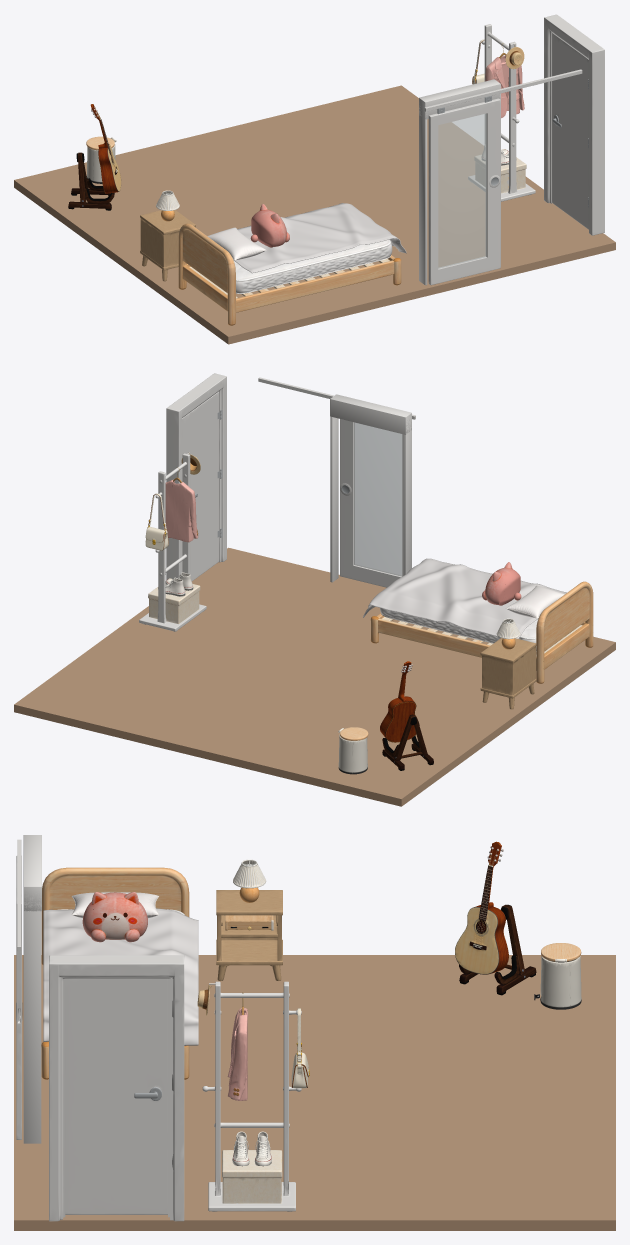
3 views of the same model, one above another, from view 1: azimuth 30°, elevation 25°; view 2: azimuth 150°, elevation 25°; view 3: azimuth 270°, elevation 25° (orthographic). The views are drawn at different scales.
Parts seen in each view (by area): view 1: bedroom.floor, bathroom.frostedGlass, b01-bed-frame.mesh.0, d04-entry-leaf.mesh.0, d02-closet-leaf.mesh.0, d03-entry-frame.mesh.0, b03-duvet.mesh.0, b02-mattress.mesh.0, c01-coat-rack.mesh.0, n01-carcass.mesh.0, bathroom.reveal.left, bathroom.reveal.head (+7 smaller); view 2: bedroom.floor, bathroom.frostedGlass, b03-duvet.mesh.0, b01-bed-frame.mesh.0, d04-entry-leaf.mesh.0, d03-entry-frame.mesh.0, c01-coat-rack.mesh.0, d02-closet-leaf.mesh.0, n01-carcass.mesh.0, bathroom.reveal.head, c02-pink-coat.mesh.0, bathroom.reveal.right (+8 smaller); view 3: bedroom.floor, d04-entry-leaf.mesh.0, d03-entry-frame.mesh.0, c01-coat-rack.mesh.0, b03-duvet.mesh.0, b01-bed-frame.mesh.0, bathroom.reveal.right, n01-carcass.mesh.0, g01-guitar.mesh.0, b05-peach-cat.mesh.0, t01-bin-body.mesh.0, c02-pink-coat.mesh.0 (+12 smaller).
Boxes of the visible parts, x1=… form: bedroom.floor: x1=14, y1=85, x2=615, y2=344; bathroom.frostedGlass: x1=438, y1=113, x2=486, y2=268; b01-bed-frame.mesh.0: x1=178, y1=223, x2=401, y2=325; d04-entry-leaf.mesh.0: x1=552, y1=33, x2=588, y2=229; d02-closet-leaf.mesh.0: x1=428, y1=96, x2=500, y2=285; d03-entry-frame.mesh.0: x1=544, y1=14, x2=604, y2=235; b03-duvet.mesh.0: x1=233, y1=203, x2=406, y2=273; b02-mattress.mesh.0: x1=234, y1=239, x2=392, y2=293; c01-coat-rack.mesh.0: x1=468, y1=24, x2=535, y2=201; n01-carcass.mesh.0: x1=140, y1=210, x2=195, y2=281; bathroom.reveal.left: x1=419, y1=100, x2=427, y2=285; bathroom.reveal.head: x1=419, y1=79, x2=500, y2=119; bedroom.floor: x1=14, y1=547, x2=615, y2=806; bathroom.frostedGlass: x1=354, y1=422, x2=402, y2=576; b03-duvet.mesh.0: x1=363, y1=558, x2=566, y2=638; b01-bed-frame.mesh.0: x1=370, y1=581, x2=593, y2=683; d04-entry-leaf.mesh.0: x1=182, y1=391, x2=218, y2=581; d03-entry-frame.mesh.0: x1=166, y1=373, x2=226, y2=579; c01-coat-rack.mesh.0: x1=139, y1=453, x2=206, y2=631; d02-closet-leaf.mesh.0: x1=340, y1=419, x2=403, y2=587; n01-carcass.mesh.0: x1=480, y1=638, x2=536, y2=709; bathroom.reveal.head: x1=330, y1=394, x2=411, y2=434; c02-pink-coat.mesh.0: x1=165, y1=479, x2=198, y2=542; bathroom.reveal.right: x1=330, y1=416, x2=338, y2=582; bedroom.floor: x1=14, y1=955, x2=615, y2=1230; d04-entry-leaf.mesh.0: x1=65, y1=978, x2=167, y2=1214; d03-entry-frame.mesh.0: x1=49, y1=955, x2=184, y2=1221; c01-coat-rack.mesh.0: x1=202, y1=981, x2=301, y2=1211; b03-duvet.mesh.0: x1=43, y1=908, x2=198, y2=1045; b01-bed-frame.mesh.0: x1=41, y1=867, x2=189, y2=1079; bathroom.reveal.right: x1=23, y1=889, x2=41, y2=1143; n01-carcass.mesh.0: x1=216, y1=890, x2=282, y2=980; g01-guitar.mesh.0: x1=455, y1=841, x2=508, y2=974; b05-peach-cat.mesh.0: x1=82, y1=892, x2=147, y2=942; t01-bin-body.mesh.0: x1=540, y1=956, x2=581, y2=1009; c02-pink-coat.mesh.0: x1=227, y1=1008, x2=248, y2=1100.
Bounding box in the file's own units: 4.82 × 2.26 × 4.6.
32 materials, 23 textured.
